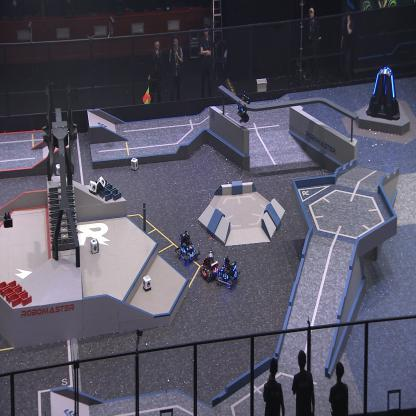car: (175, 229, 201, 264), (217, 255, 240, 289), (200, 249, 219, 281)
